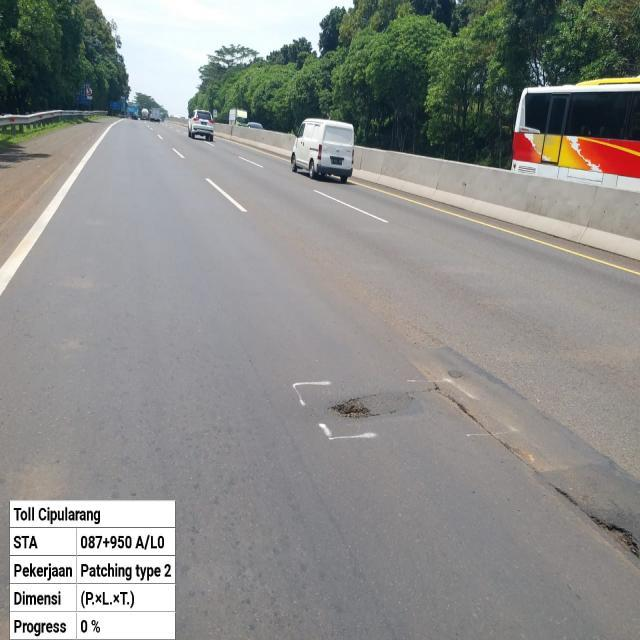Buraco: (585, 511, 640, 559), (327, 396, 382, 420)
